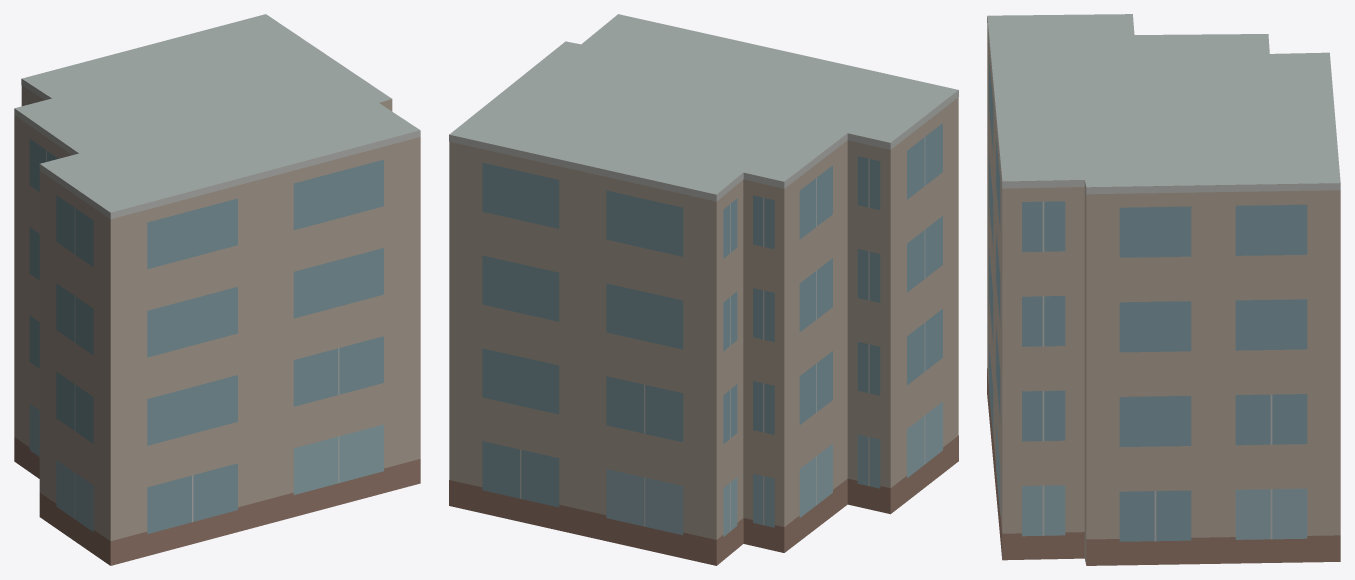
File: survey-upis-33009498.glb
3 renders of one model, left to right at view 1: azimuth 30°, elevation 25°; view 2: azimuth 150°, elevation 25°; view 3: azimuth 270°, elevation 25°, orthographic. The views are drawn at different scales.
Parts seen in each view (by area): view 1: survey-upis-33009498.tmp; view 2: survey-upis-33009498.tmp; view 3: survey-upis-33009498.tmp.
Boxes of the visible parts, left/top/right/bottom form: survey-upis-33009498.tmp: left=14, top=14, right=420, bottom=565; survey-upis-33009498.tmp: left=449, top=14, right=958, bottom=565; survey-upis-33009498.tmp: left=987, top=14, right=1340, bottom=565.
Size of the model in its own units: 12.81 by 13.05 by 11.05.
